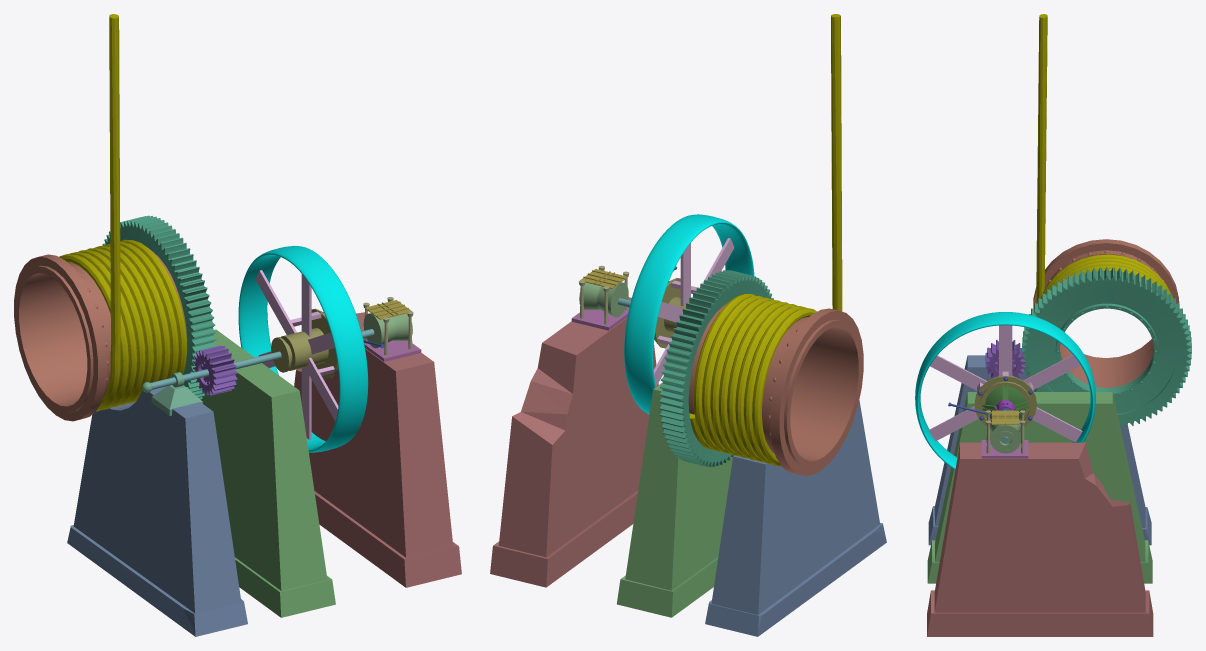
The model's file is Machine.fbx.
3 renders of one model, left to right at view 1: azimuth 30°, elevation 25°; view 2: azimuth 150°, elevation 25°; view 3: azimuth 270°, elevation 25°, orthographic. The views are drawn at different scales.
Parts seen in each view (by area): view 1: Pillier_Arrondie, Pillier_Detruit, Pillier_Centre, Cable_1, Tambour_1, Grande_Roue_1, Big_Gear_1, Barre_Grande_Roue_1, Grd_Roue_prt_3_1, Little_Gear_1, Porte_Bar_1, Moteur (+2 smaller); view 2: Pillier_Detruit, Pillier_Arrondie, Cable_1, Pillier_Centre, Tambour_1, Grande_Roue_1, Big_Gear_1, Barre_Grande_Roue_1, Moteur, Grd_Roue_prt_3_1, Plaque_Moteur2, PlaqueHaut_Moteur; view 3: Pillier_Detruit, Big_Gear_1, Pillier_Centre, Tambour_1, Cable_1, Grande_Roue_1, Barre_Grande_Roue_1, Pillier_Arrondie, Grd_Roue_prt_3_1, Little_Gear_1, Moteur, Grd_Roue_prt_2_1 (+2 smaller).
Boxes of the visible parts, x1,y1,x2,y2 form: Pillier_Arrondie: [67, 386, 247, 636]; Pillier_Detruit: [294, 312, 461, 587]; Pillier_Centre: [201, 329, 335, 617]; Cable_1: [59, 14, 187, 411]; Tambour_1: [14, 250, 187, 421]; Grande_Roue_1: [238, 245, 368, 452]; Big_Gear_1: [102, 215, 216, 399]; Barre_Grande_Roue_1: [255, 270, 338, 439]; Grd_Roue_prt_3_1: [271, 308, 337, 379]; Little_Gear_1: [193, 345, 237, 395]; Porte_Bar_1: [142, 372, 202, 415]; Moteur: [363, 313, 412, 348]; Pillier_Detruit: [490, 297, 658, 587]; Pillier_Arrondie: [705, 400, 886, 636]; Cable_1: [689, 14, 842, 466]; Pillier_Centre: [617, 382, 732, 617]; Tambour_1: [688, 304, 863, 476]; Grande_Roue_1: [624, 214, 754, 414]; Big_Gear_1: [659, 270, 773, 467]; Barre_Grande_Roue_1: [653, 238, 734, 386]; Moteur: [579, 282, 628, 317]; Grd_Roue_prt_3_1: [654, 278, 689, 348]; Plaque_Moteur2: [571, 307, 629, 330]; PlaqueHaut_Moteur: [580, 269, 627, 288]; Pillier_Detruit: [927, 442, 1153, 636]; Big_Gear_1: [1022, 266, 1191, 428]; Pillier_Centre: [927, 392, 1152, 583]; Tambour_1: [1033, 239, 1179, 387]; Cable_1: [1036, 14, 1172, 303]; Grande_Roue_1: [915, 312, 1095, 469]; Barre_Grande_Roue_1: [929, 325, 1082, 442]; Pillier_Arrondie: [928, 355, 1151, 545]; Grd_Roue_prt_3_1: [974, 375, 1036, 428]; Little_Gear_1: [985, 340, 1025, 378]; Moteur: [990, 419, 1021, 453]; Grd_Roue_prt_2_1: [982, 384, 1028, 418].
Size of the model in its own units: 9.8 by 17.72 by 8.84.
